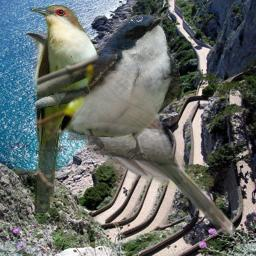Cuckoo: (24, 31, 236, 237), (29, 4, 100, 213)
Swallow: (36, 14, 184, 162)
